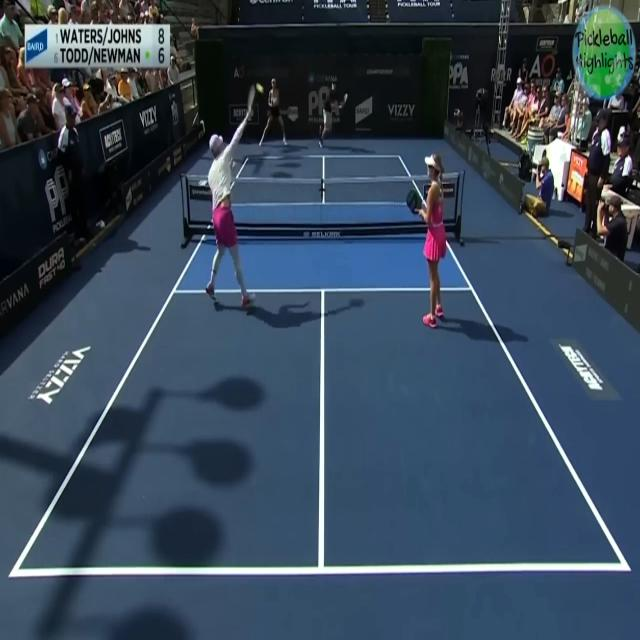Pickleball: (256, 81, 264, 94)
